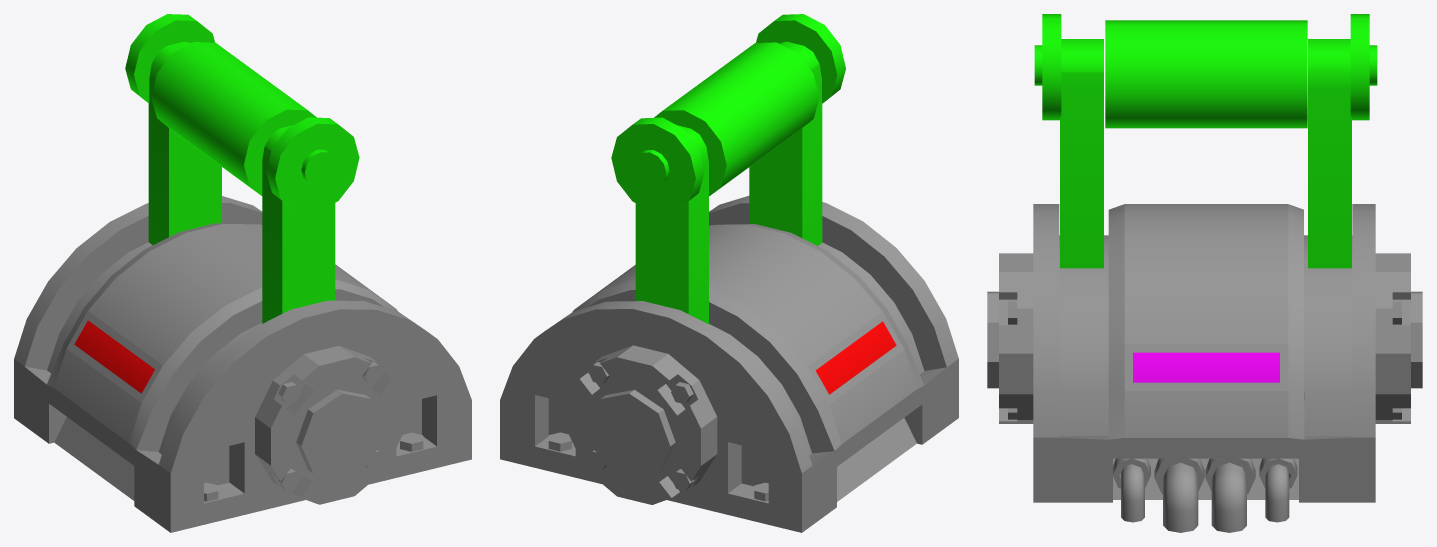
File: M_Prop_Lever.FBX
3 renders of one model, left to right at view 1: azimuth 30°, elevation 25°; view 2: azimuth 150°, elevation 25°; view 3: azimuth 270°, elevation 25°, orthographic. The views are drawn at different scales.
Parts seen in each view (by area): view 1: M_Prop_Lever_Base, M_Prop_Lever_Lever; view 2: M_Prop_Lever_Base, M_Prop_Lever_Lever; view 3: M_Prop_Lever_Base, M_Prop_Lever_Lever.
Part boxes in pixels (left/top/right/bottom): M_Prop_Lever_Base: left=14, top=196, right=471, bottom=532; M_Prop_Lever_Lever: left=125, top=14, right=359, bottom=323; M_Prop_Lever_Base: left=500, top=196, right=958, bottom=532; M_Prop_Lever_Lever: left=611, top=14, right=845, bottom=324; M_Prop_Lever_Base: left=987, top=204, right=1422, bottom=532; M_Prop_Lever_Lever: left=1034, top=14, right=1377, bottom=268.
Bounding box in the file's own units: 64.09 × 65.78 × 69.18.
